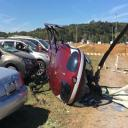helicopter: (30, 19, 128, 110)
